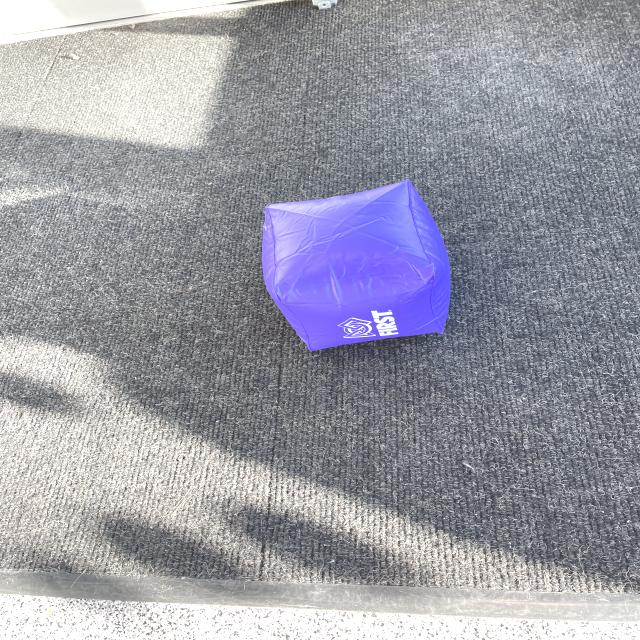frc_cube: (237, 179, 467, 365)
